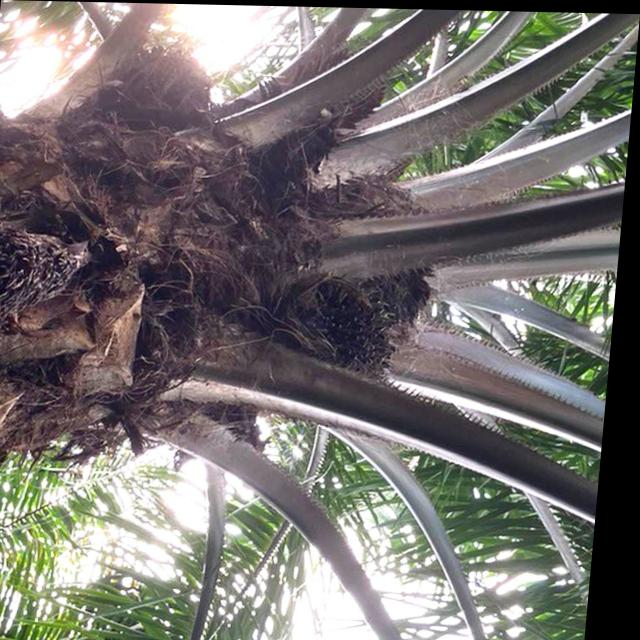unripe: (302, 303, 403, 379)
